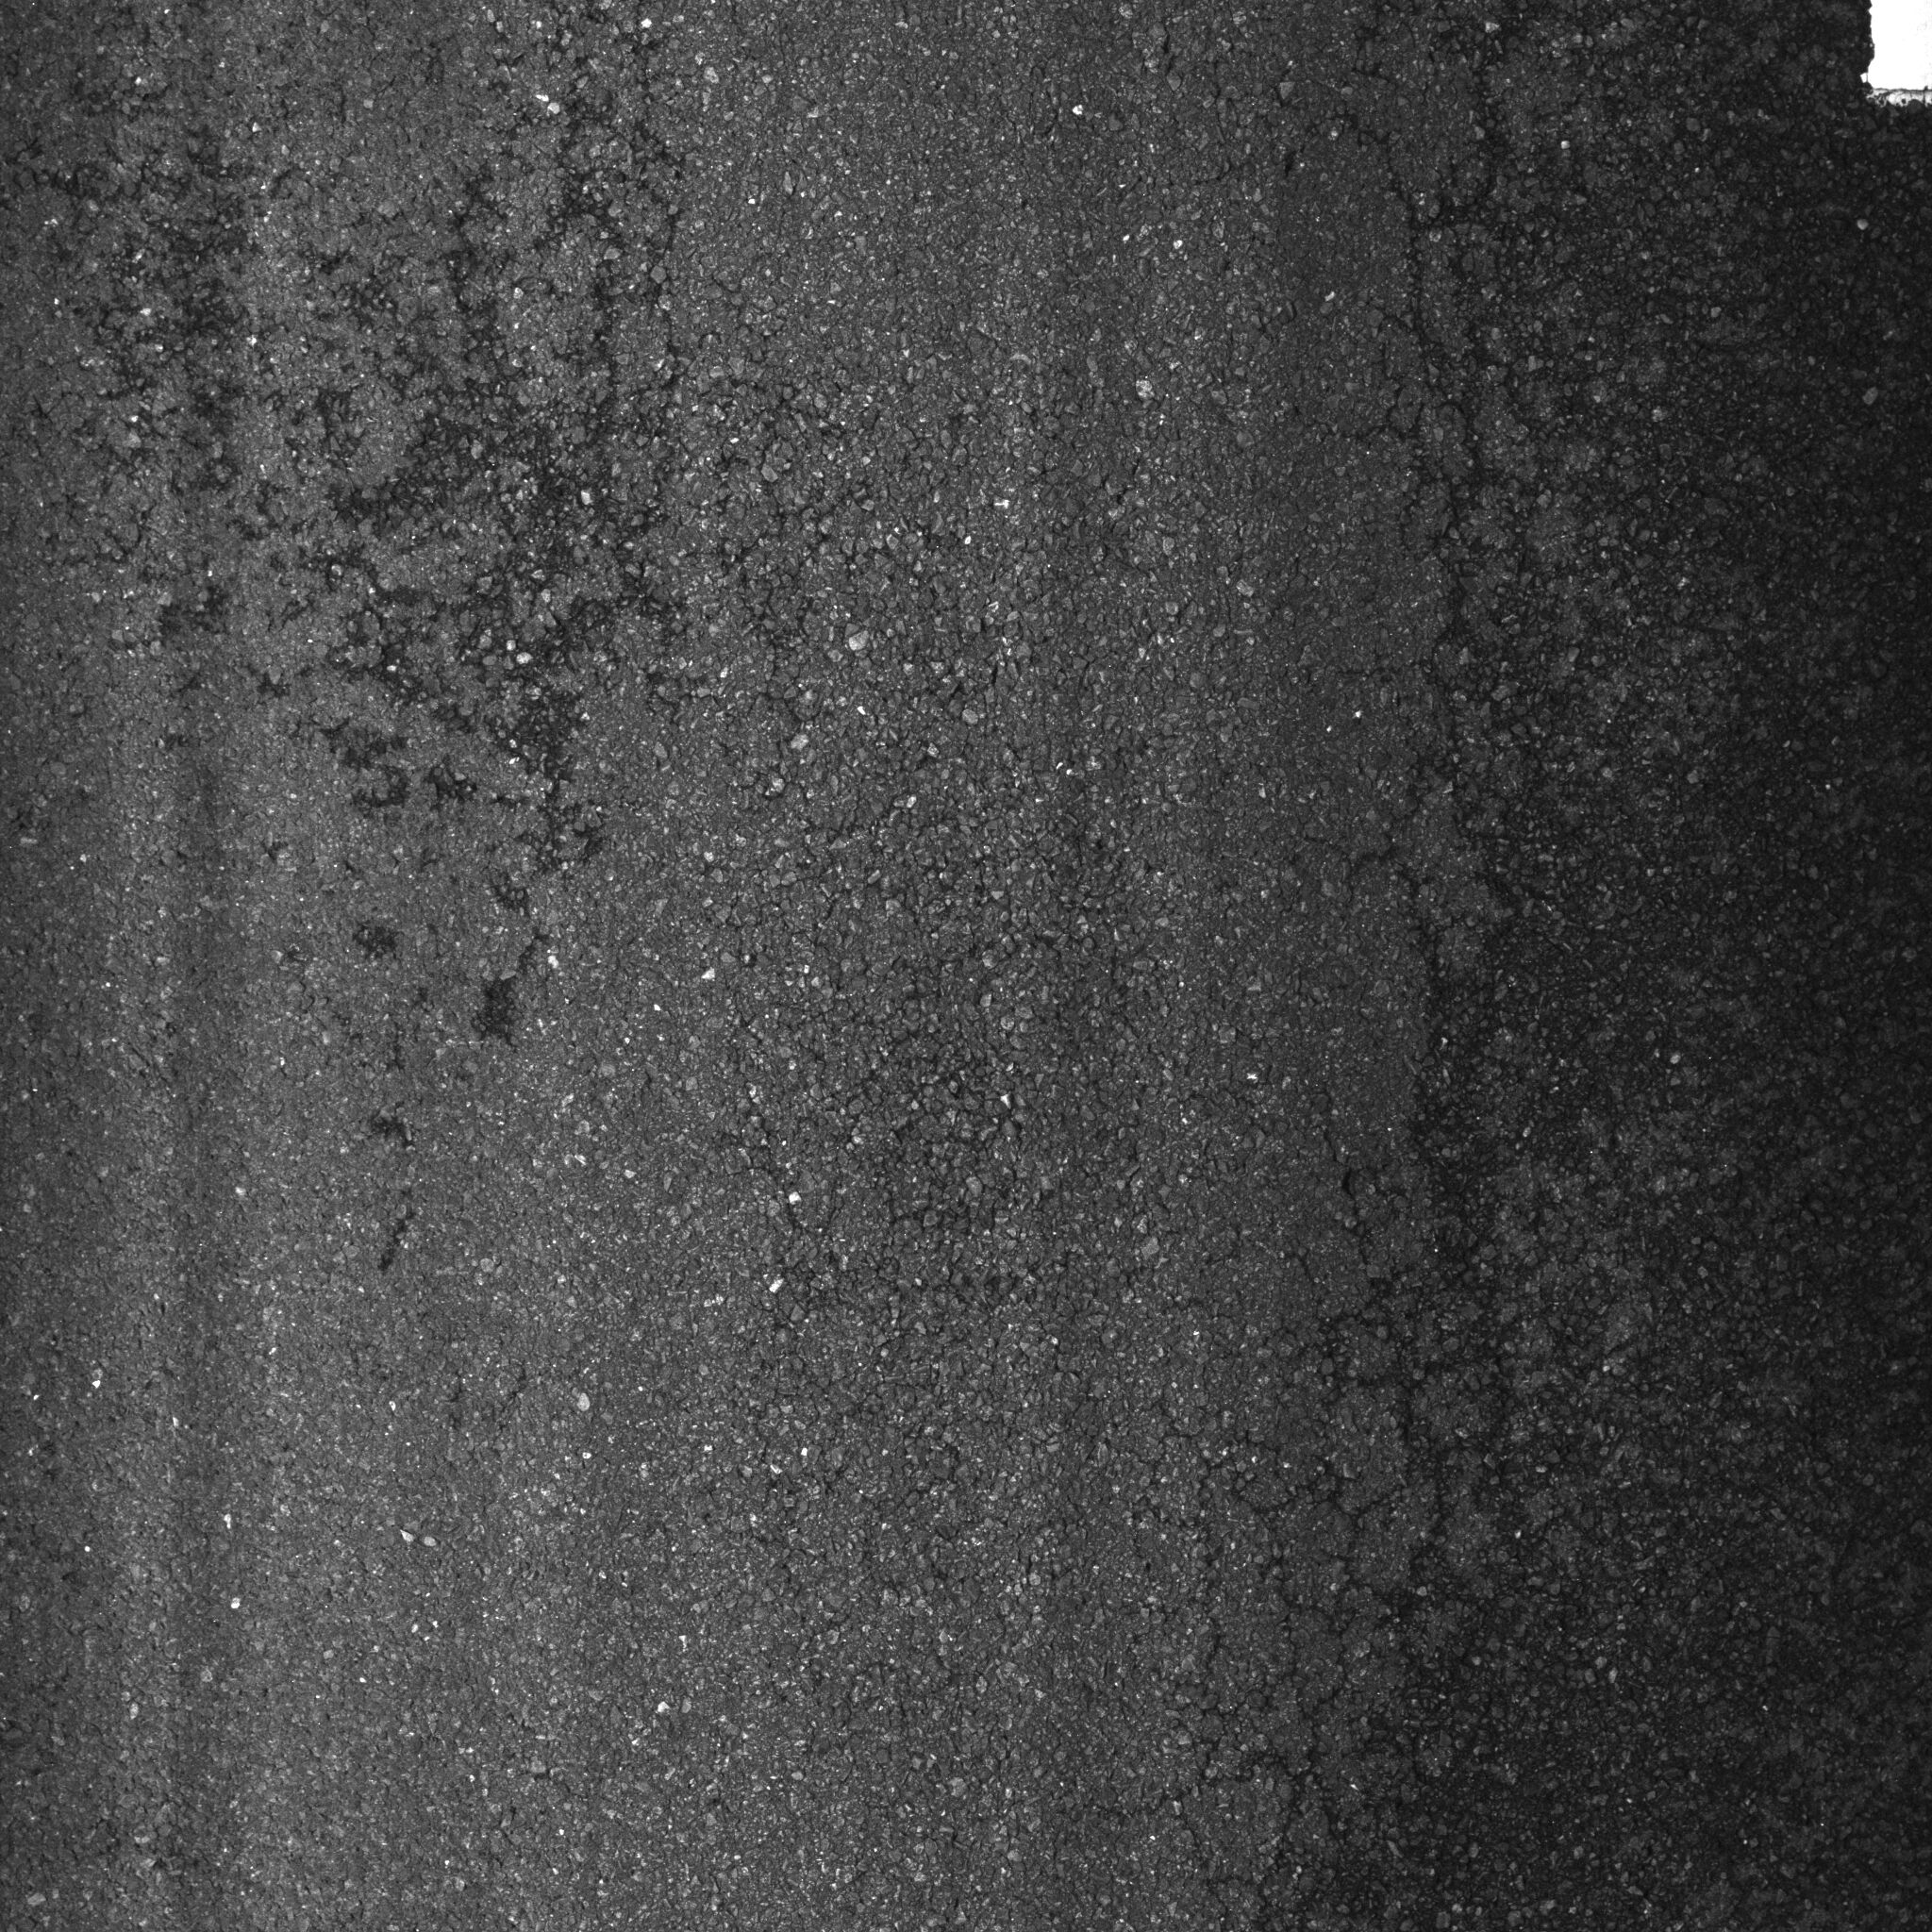alligator: (1221, 7, 1932, 1932), (9, 9, 897, 1139)
